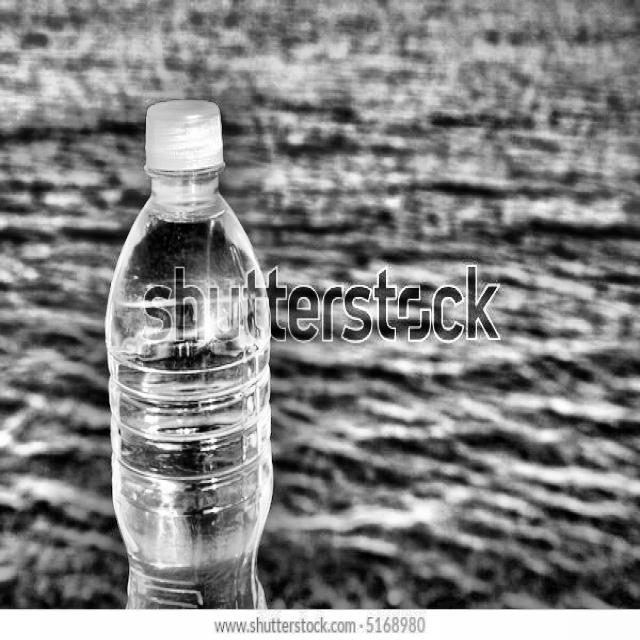waterbottle: (97, 90, 281, 596)
